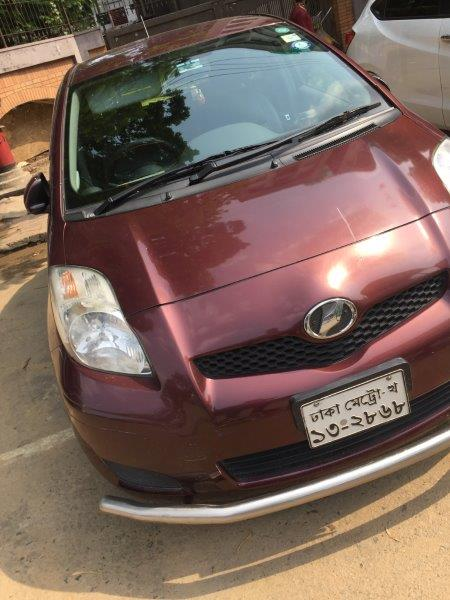car: (22, 8, 450, 525)
